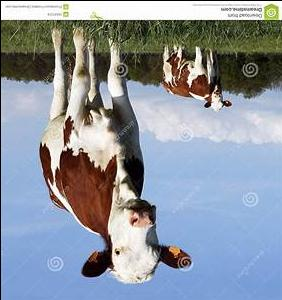cow: (38, 25, 193, 285), (160, 43, 232, 112)
